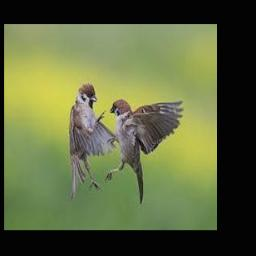Sparrow: (104, 99, 185, 204), (69, 82, 117, 200)
